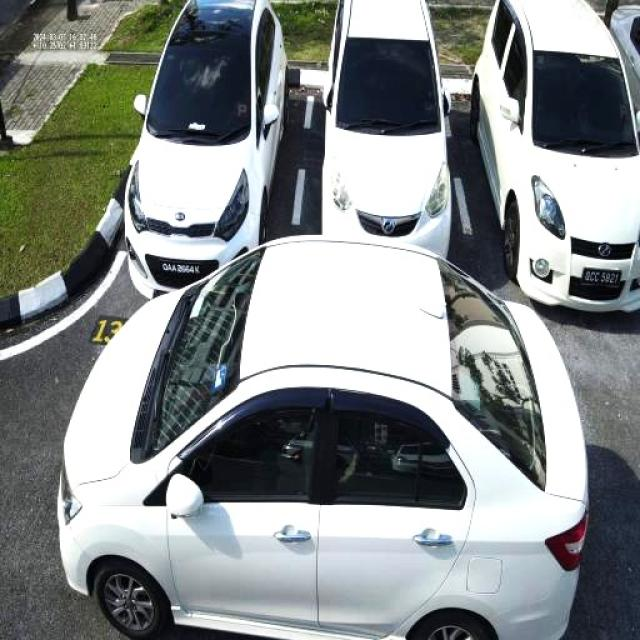Legalparking: (470, 0, 639, 310), (125, 0, 288, 295), (322, 0, 451, 256)
illegalparking: (59, 236, 588, 639), (280, 296, 332, 310)
